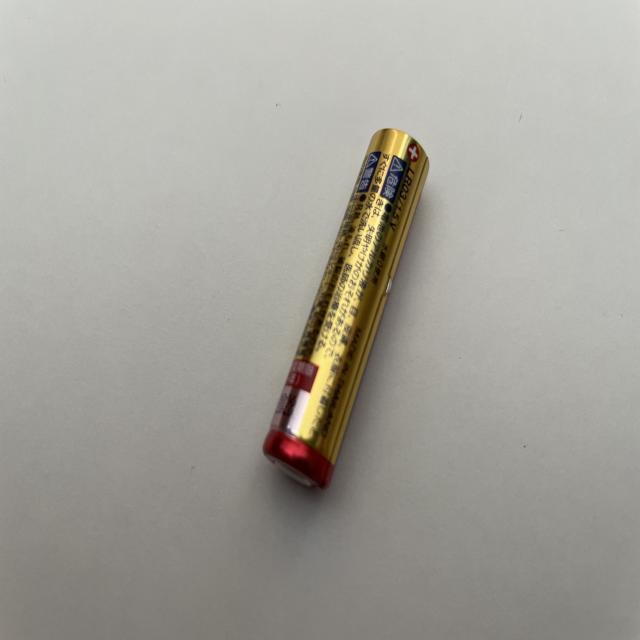hazardous waste: (259, 125, 428, 488)
